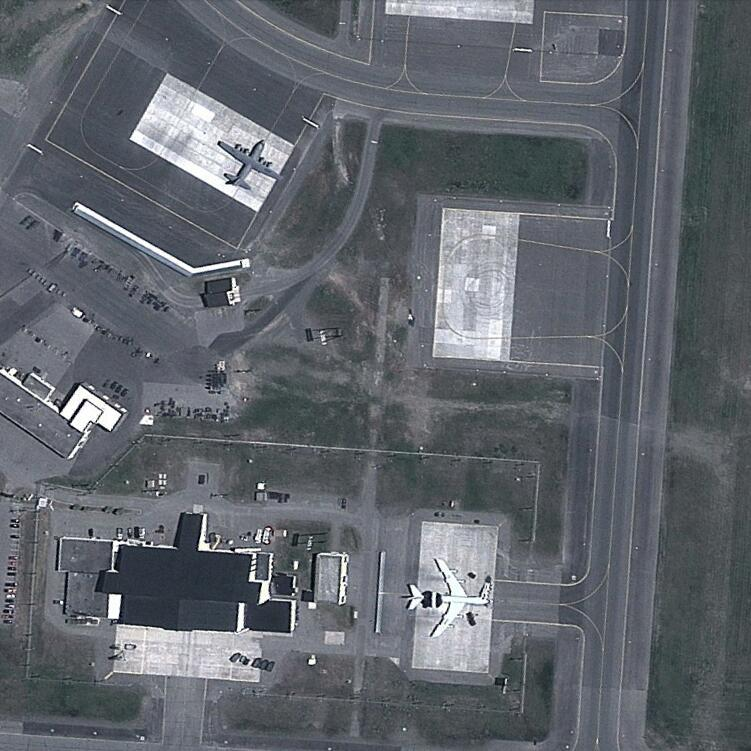A2: (212, 138, 282, 192)
A7: (405, 554, 488, 638)
